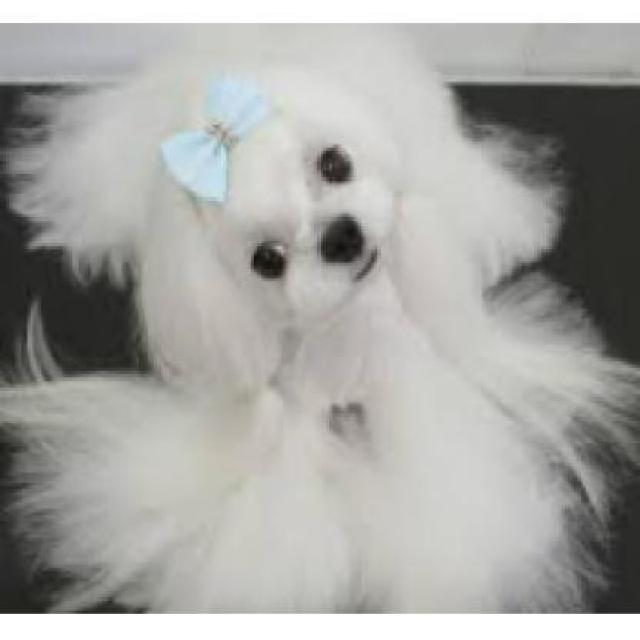Dog: (3, 38, 634, 611)
